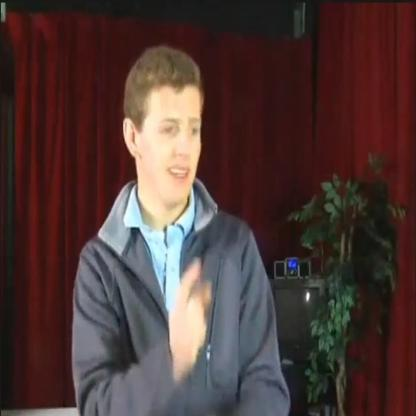NiceToMeetYou: (158, 246, 241, 361)
